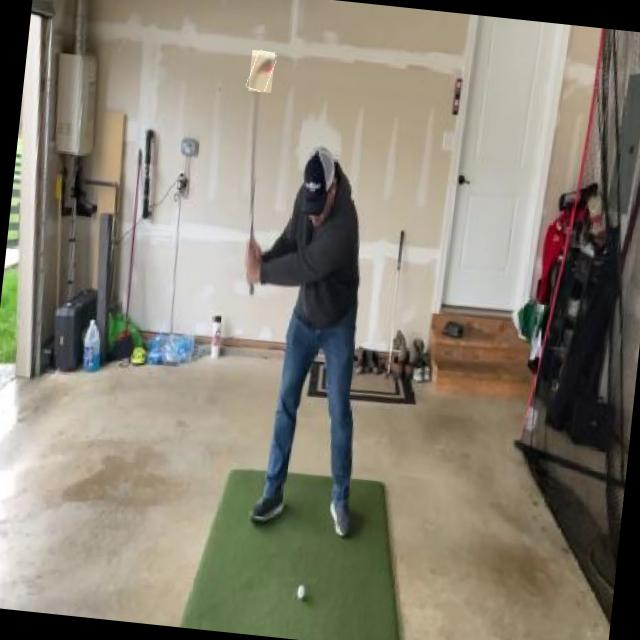club head: (248, 49, 274, 92)
